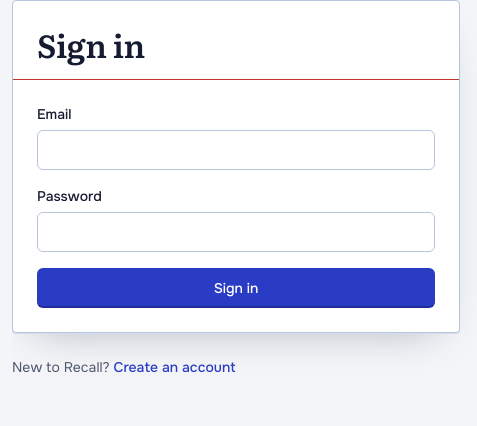
LoginForm › shows the wait time when rate limited
Type "person@example.com" into the field labelled "Email" at x=236, y=150, box [37,130,435,170]
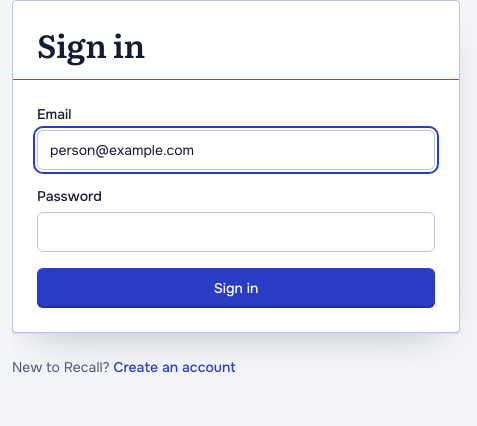
Type "correct horse battery" into the password field labelled "Password" at x=236, y=232, box [37,212,435,252]
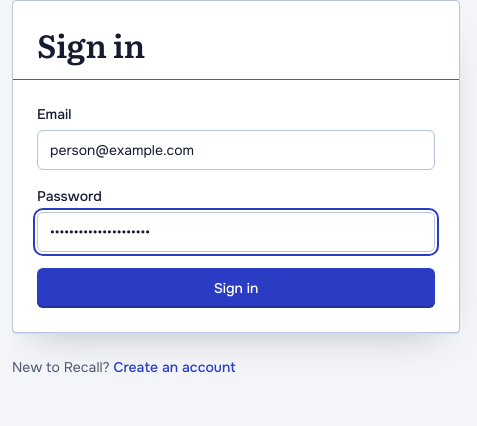
Click the button "Sign in" at x=236, y=288, box [37,268,435,308]
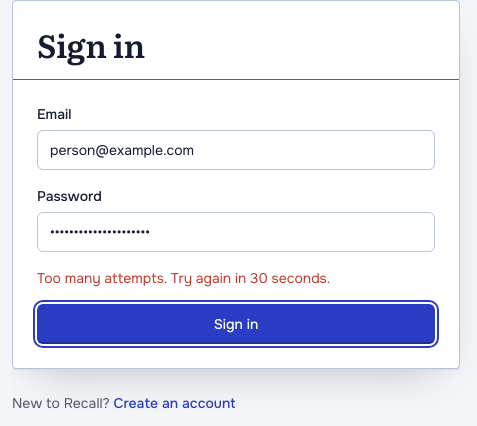
Expected: the text "Too many attempts. Try again in 30 seconds." is shown, [37,269,330,287]
